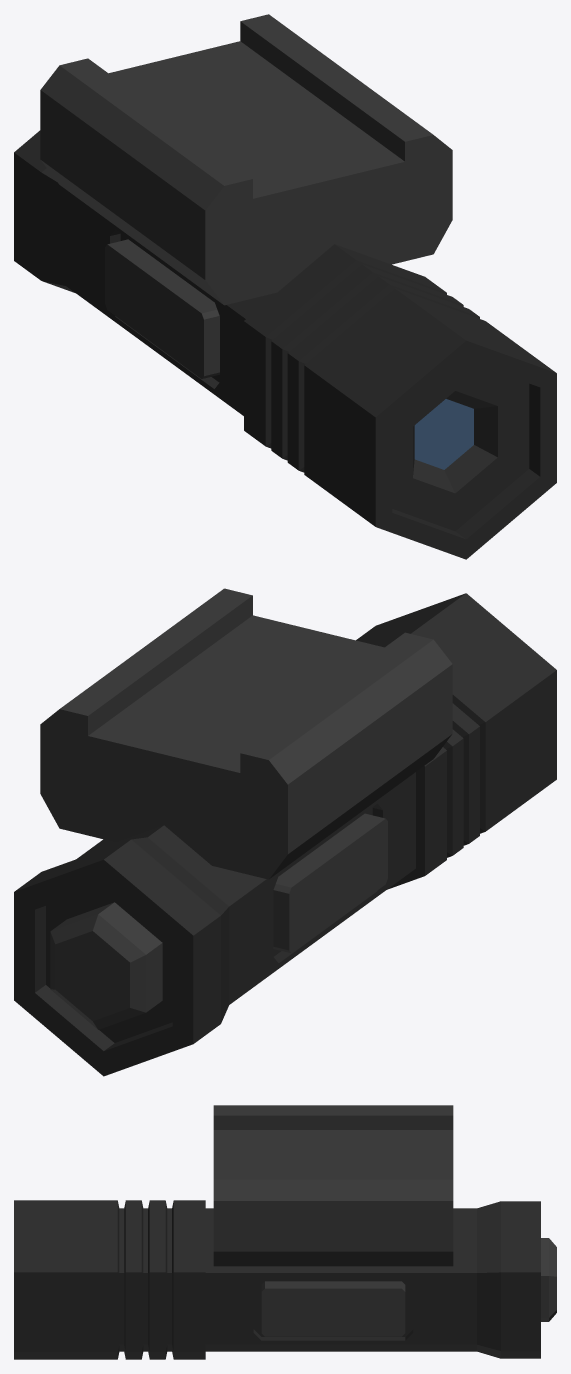
File: Laser_Pistol_A.fbx
3 views of the same model, one above another, from view 1: azimuth 30°, elevation 25°; view 2: azimuth 150°, elevation 25°; view 3: azimuth 270°, elevation 25° (orthographic). The views are drawn at different scales.
Visible parts, largest first — view 1: Laser_Pistol_A; view 2: Laser_Pistol_A; view 3: Laser_Pistol_A.
Boxes of the visible parts, left/top/right/bottom form: Laser_Pistol_A: left=14, top=14, right=556, bottom=559; Laser_Pistol_A: left=14, top=588, right=556, bottom=1076; Laser_Pistol_A: left=14, top=1105, right=556, bottom=1359.
Bounding box in the file's own units: 0.0325 × 0.0375 × 0.085.
